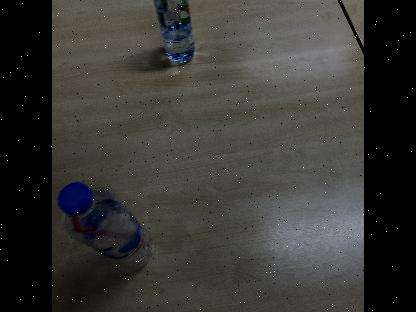Plastic Bottle: (56, 180, 158, 270), (151, 0, 193, 64)
